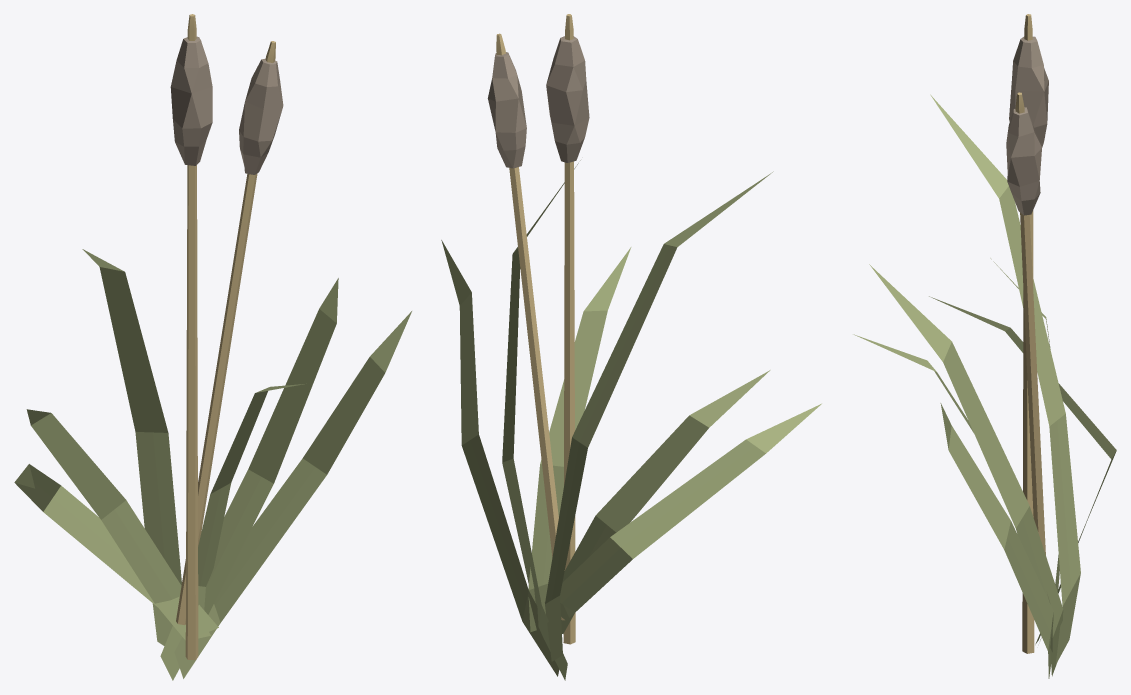
Rendered from ER_Asset_Reed01.fbx.
The picture shows the model from 3 angles, left to right: view 1: azimuth 30°, elevation 25°; view 2: azimuth 150°, elevation 25°; view 3: azimuth 270°, elevation 25°; orthographic projection. The views are drawn at different scales.
Visible parts, largest first — view 1: polySurface2203; view 2: polySurface2203; view 3: polySurface2203.
Part boxes in pixels (x1,y1,x2,y2): polySurface2203: [14, 14, 411, 680]; polySurface2203: [441, 14, 821, 680]; polySurface2203: [853, 14, 1116, 678].
Size of the model in its own units: 1.32 by 2.21 by 0.7988.
